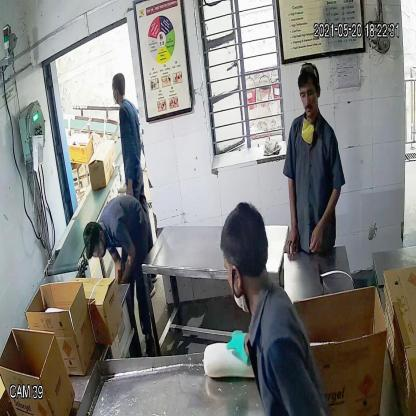no_goggles: (298, 85, 318, 102)
